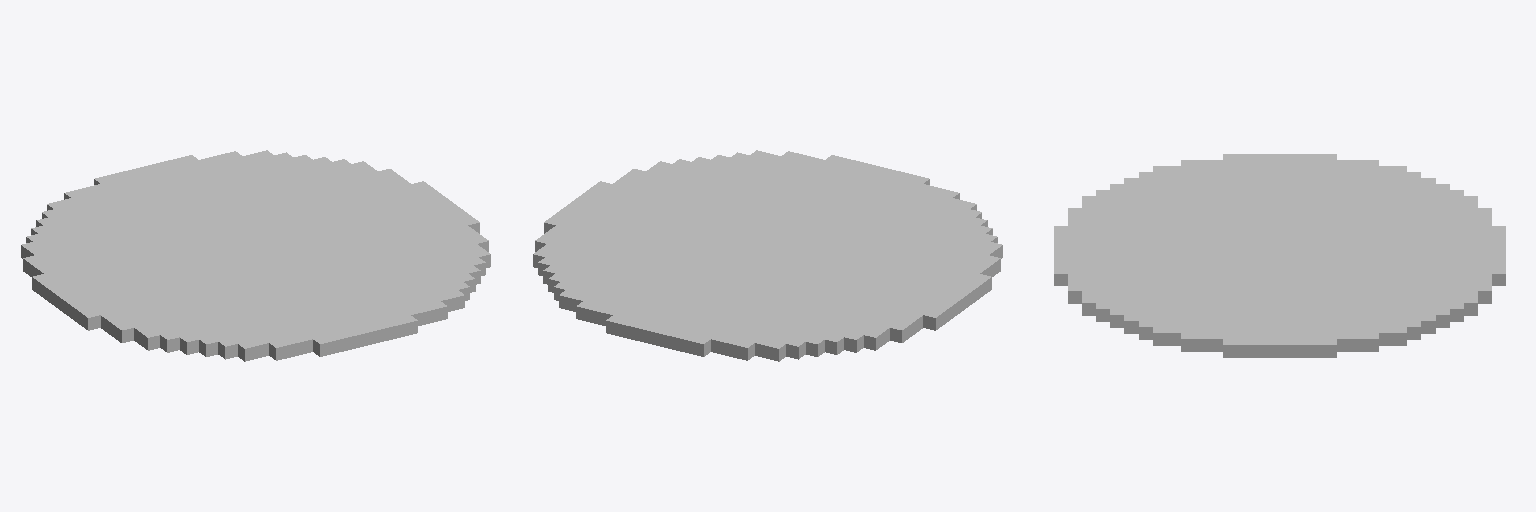
File: swords-efffects-1-Calque 3.obj
The picture shows the model from 3 angles: view 1: azimuth 30°, elevation 25°; view 2: azimuth 150°, elevation 25°; view 3: azimuth 270°, elevation 25°; orthographic projection.
Visible parts, largest first — view 1: Calque 3; view 2: Calque 3; view 3: Calque 3.
Part boxes in pixels (x1,y1,x2,y2): Calque 3: (21,150,490,361); Calque 3: (533,150,1002,361); Calque 3: (1054,154,1505,357).
Bounding box in the file's own units: 3.2 × 0.1 × 3.2.